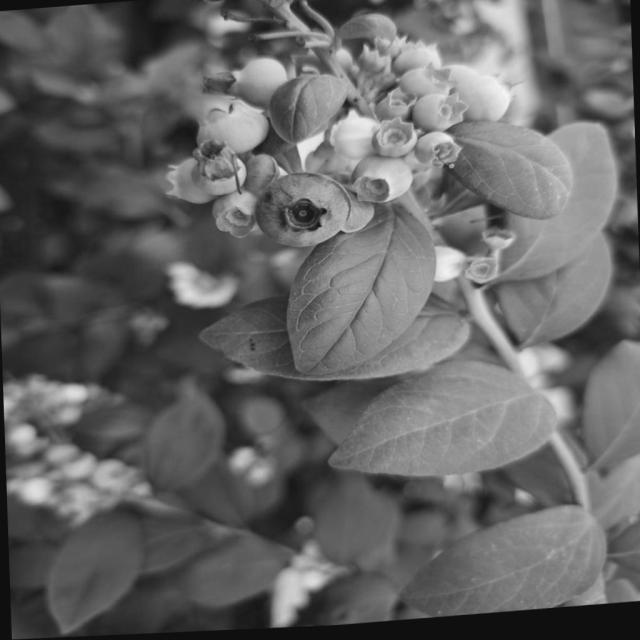RipeBlueBerry: (250, 167, 354, 255)
